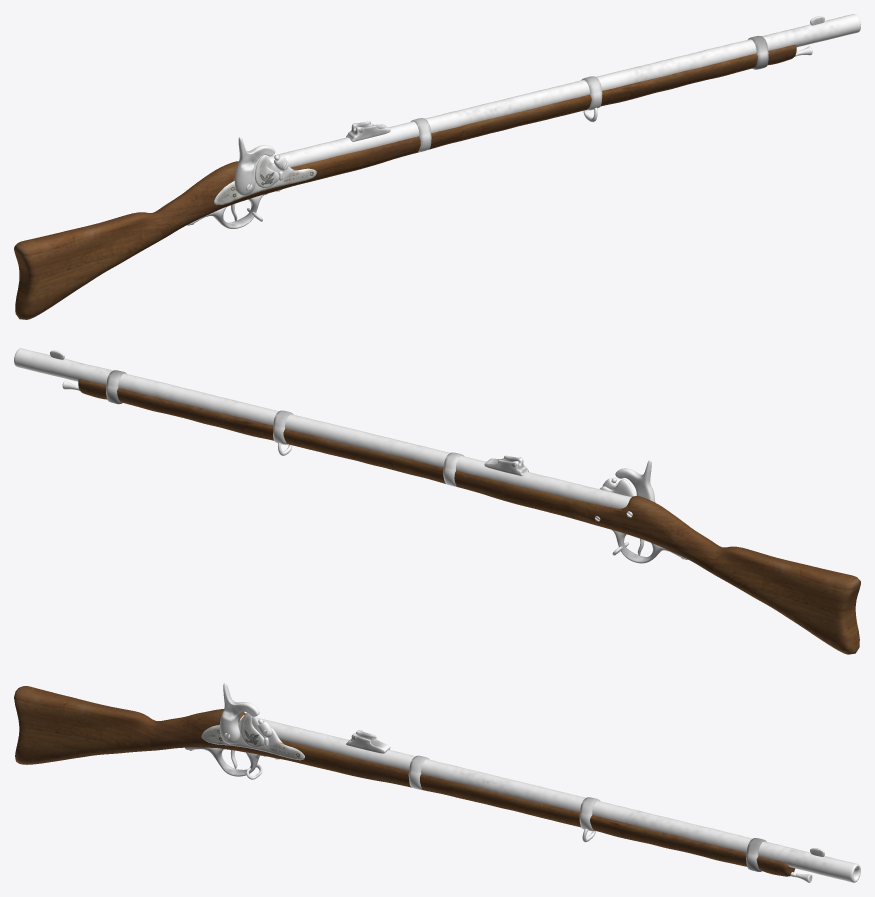
The model's file is 1855_springfield_rifle_musket_-_game_asset.glb.
The picture shows the model from 3 angles, top to bottom: view 1: azimuth 30°, elevation 25°; view 2: azimuth 150°, elevation 25°; view 3: azimuth 330°, elevation 25°; orthographic projection.
Visible parts, largest first — view 1: Musket_10, Musket_07; view 2: Musket_10, Musket_07; view 3: Musket_10, Musket_07.
Part boxes in pixels (<box>): Musket_10: <box>14,44,796,319</box>; Musket_07: <box>187,14,860,228</box>; Musket_10: <box>78,379,860,654</box>; Musket_07: <box>14,348,687,563</box>; Musket_10: <box>14,686,795,876</box>; Musket_07: <box>185,683,860,882</box>.
Size of the model in its own units: 32.23 by 5.02 by 1.29.
Materials: 2 (2 with a texture image).
